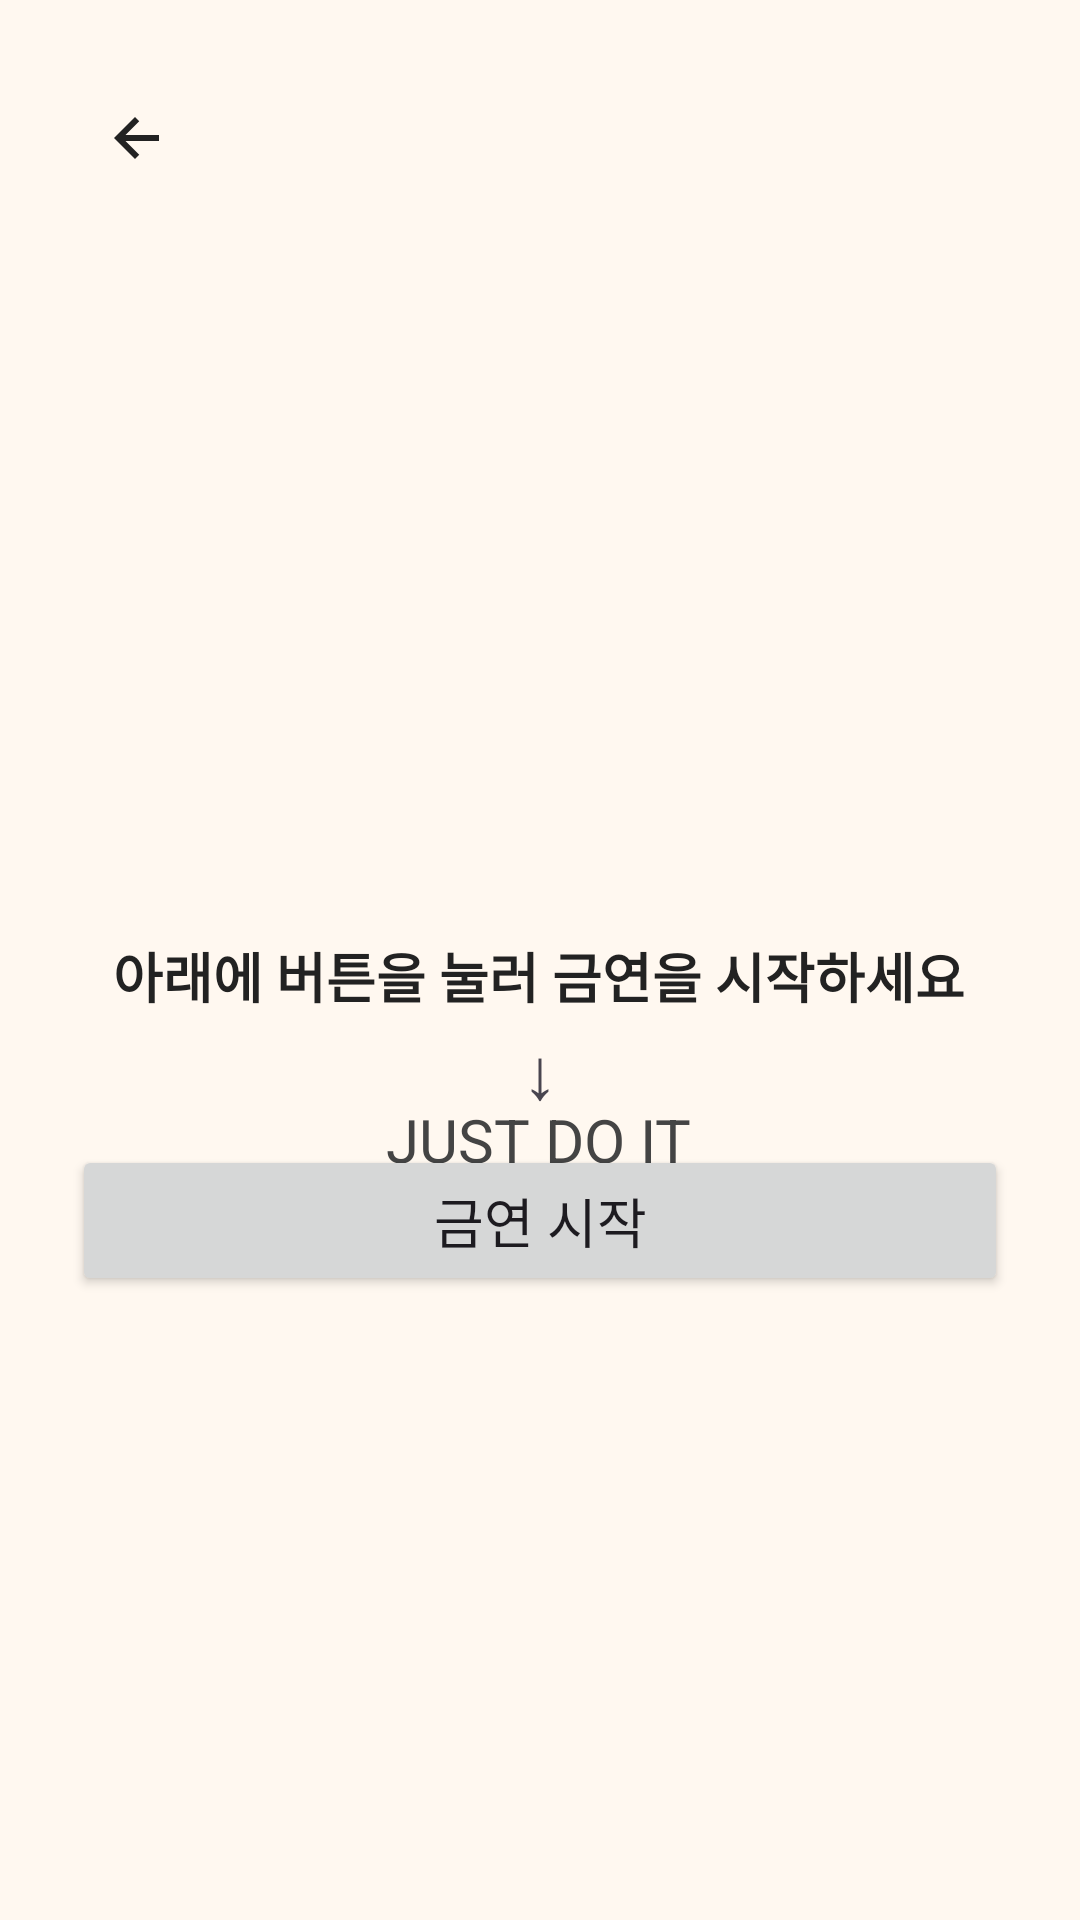

Named icons in this screenshot (1080 × 1920) and their bounding boxes, (x1, y1, x2, y2):
Back: (114, 117, 159, 159)
